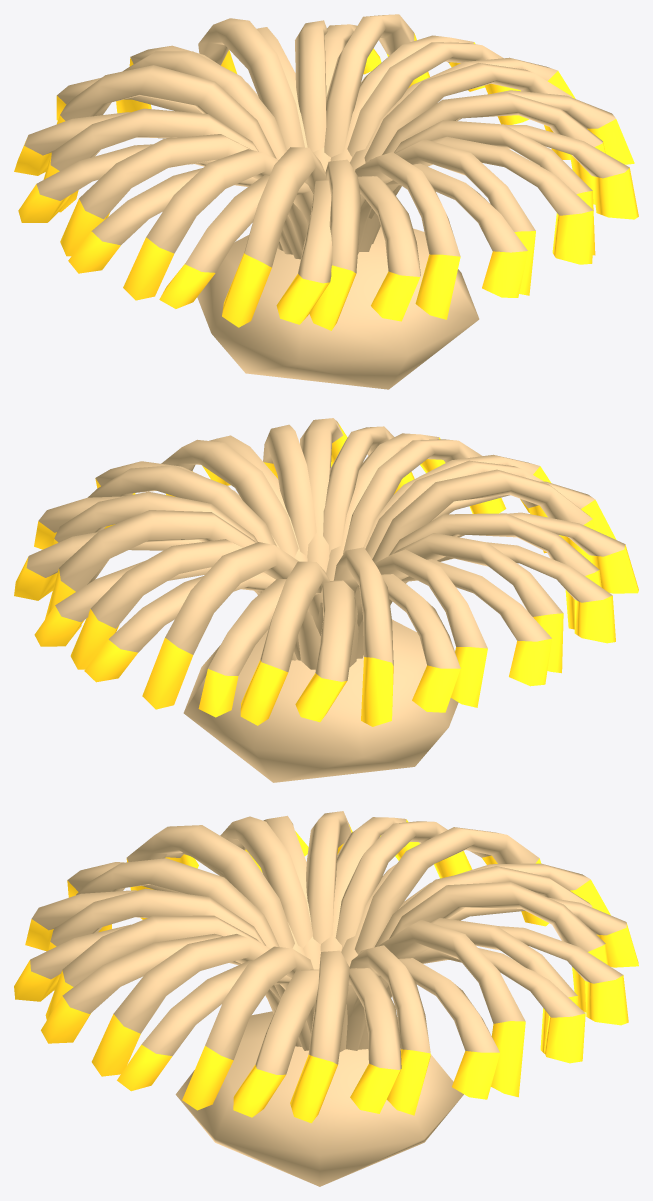
File: magmastuff_anemone.fbx
3 views of the same model, one above another, from view 1: azimuth 30°, elevation 25°; view 2: azimuth 150°, elevation 25°; view 3: azimuth 270°, elevation 25° (orthographic).
Parts seen in each view (by area): view 1: anemone; view 2: anemone; view 3: anemone.
Part boxes in pixels (x1,y1,x2,y2): anemone: (14,14,638,389); anemone: (14,418,638,782); anemone: (14,811,638,1186).
Size of the model in its own units: 68.32 by 33.33 by 68.18.
